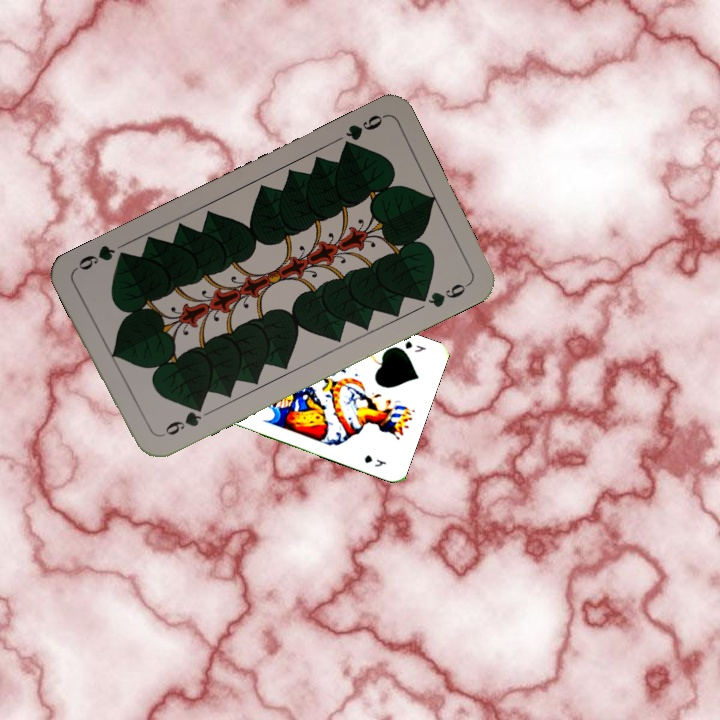G9: (337, 110, 387, 154), (155, 400, 206, 440)
GK: (401, 337, 428, 355)
